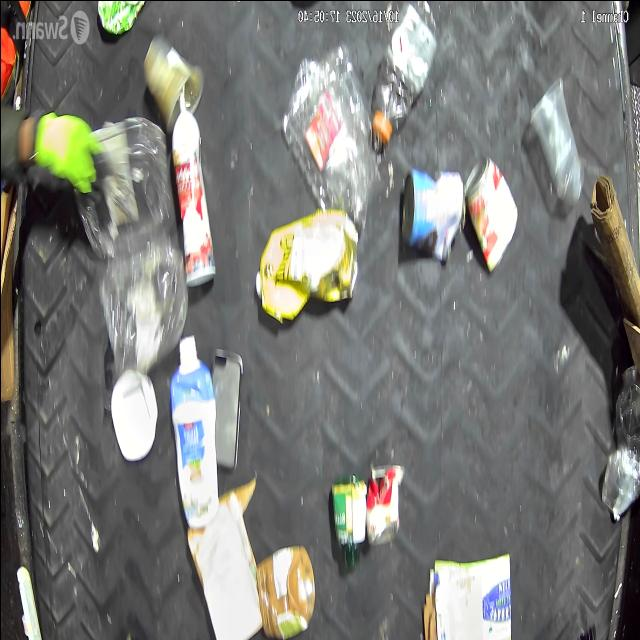can: (468, 155, 520, 269), (403, 162, 458, 262), (364, 454, 404, 538), (328, 476, 364, 552)
non_white_jug: (254, 204, 358, 318)
plastic_bottle: (286, 49, 361, 192), (370, 0, 439, 140), (603, 360, 640, 520)
